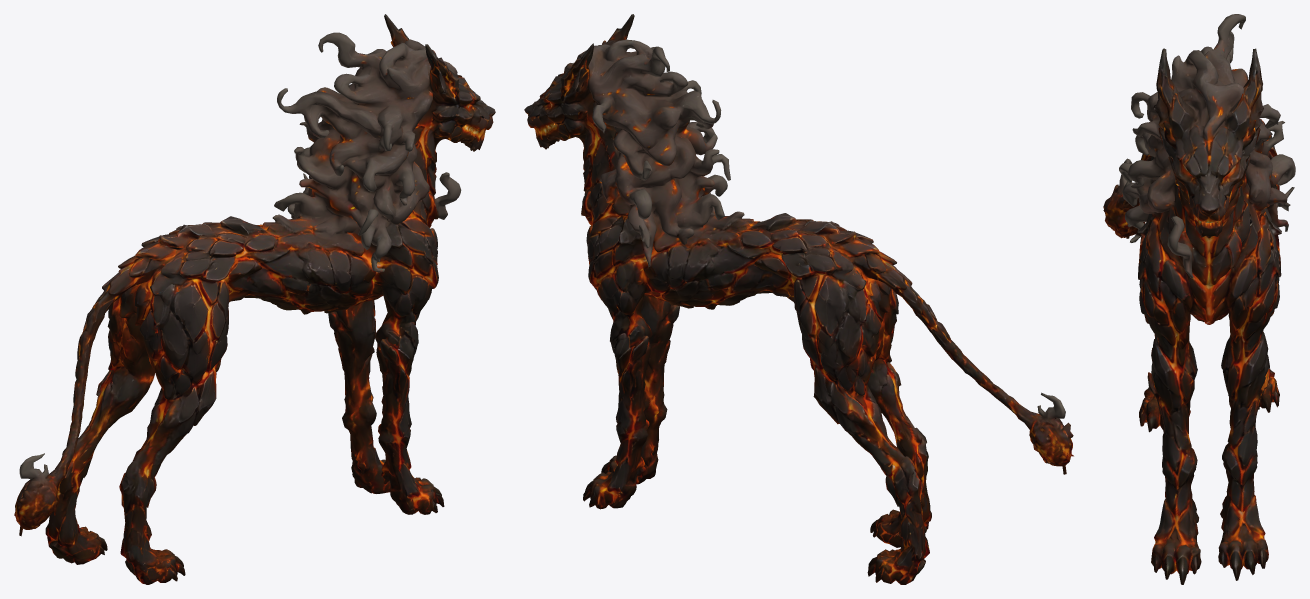
File: MagmaHound-tripo.glb
3 renders of one model, left to right at view 1: azimuth 30°, elevation 25°; view 2: azimuth 150°, elevation 25°; view 3: azimuth 270°, elevation 25°, orthographic. The views are drawn at different scales.
Parts seen in each view (by area): view 1: tripo_node_f7efdbde-0a35-4e5e-b6f9-aafe91d05839; view 2: tripo_node_f7efdbde-0a35-4e5e-b6f9-aafe91d05839; view 3: tripo_node_f7efdbde-0a35-4e5e-b6f9-aafe91d05839.
Part boxes in pixels (x1,y1,x2,y2): tripo_node_f7efdbde-0a35-4e5e-b6f9-aafe91d05839: [14, 14, 495, 584]; tripo_node_f7efdbde-0a35-4e5e-b6f9-aafe91d05839: [524, 14, 1073, 584]; tripo_node_f7efdbde-0a35-4e5e-b6f9-aafe91d05839: [1103, 14, 1295, 584].
Bounding box in the file's own units: 1 × 0.8753 × 0.2893.
1 material, 1 textured.
